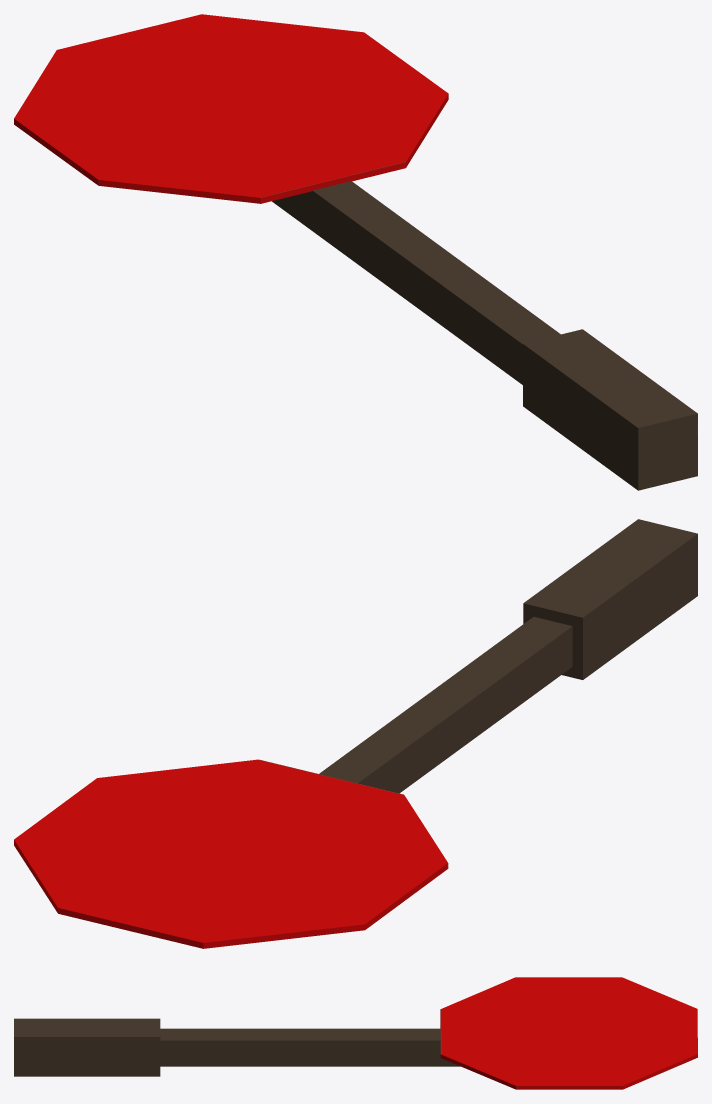
The model's file is sign-stop.obj.
3 views of the same model, one above another, from view 1: azimuth 30°, elevation 25°; view 2: azimuth 150°, elevation 25°; view 3: azimuth 270°, elevation 25° (orthographic). The views are drawn at different scales.
Parts seen in each view (by area): view 1: sign-stop_Plane.196; view 2: sign-stop_Plane.196; view 3: sign-stop_Plane.196.
Part boxes in pixels (<box>): sign-stop_Plane.196: <box>14,14,697,490</box>; sign-stop_Plane.196: <box>14,519,697,948</box>; sign-stop_Plane.196: <box>14,977,697,1089</box>.
Bounding box in the file's own units: 0.9934 × 0.1689 × 2.64.
